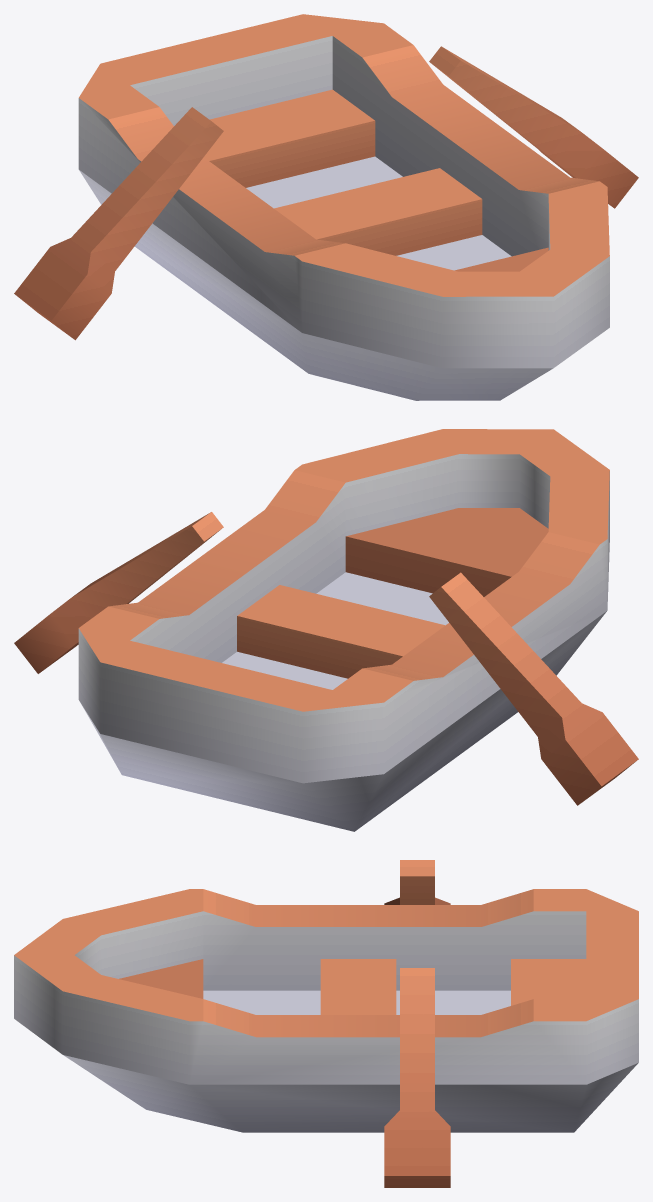
File: boat-row-large.glb
3 views of the same model, one above another, from view 1: azimuth 30°, elevation 25°; view 2: azimuth 150°, elevation 25°; view 3: azimuth 270°, elevation 25° (orthographic). The views are drawn at different scales.
Parts seen in each view (by area): view 1: boat-row-large; view 2: boat-row-large; view 3: boat-row-large.
Part boxes in pixels (x1=…): boat-row-large: x1=14, y1=14, x2=638, y2=400; boat-row-large: x1=14, y1=429, x2=638, y2=831; boat-row-large: x1=14, y1=860, x2=638, y2=1187.
Size of the model in its own units: 2.75 by 0.8475 by 2.85.
Materials: 1 (1 with a texture image).
